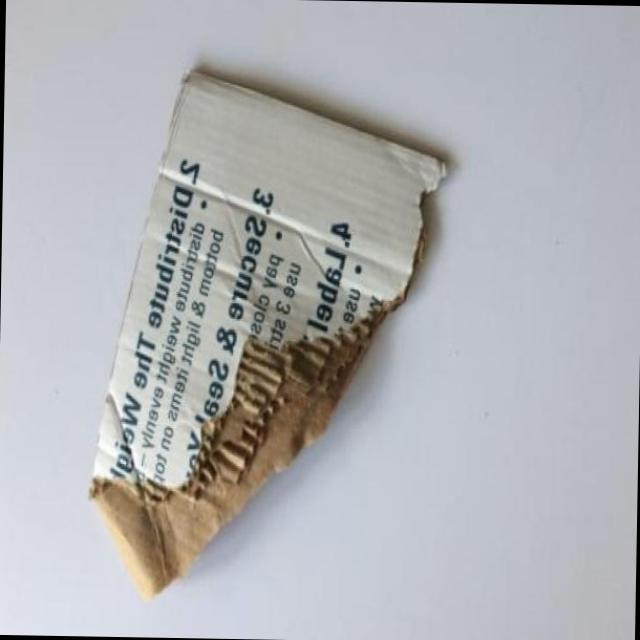cardboard paper: (89, 74, 441, 598)
